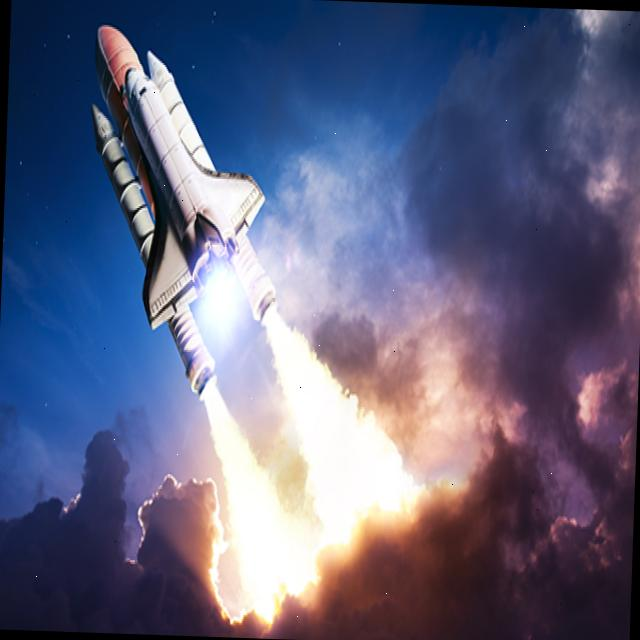rocket: (110, 55, 270, 336)
